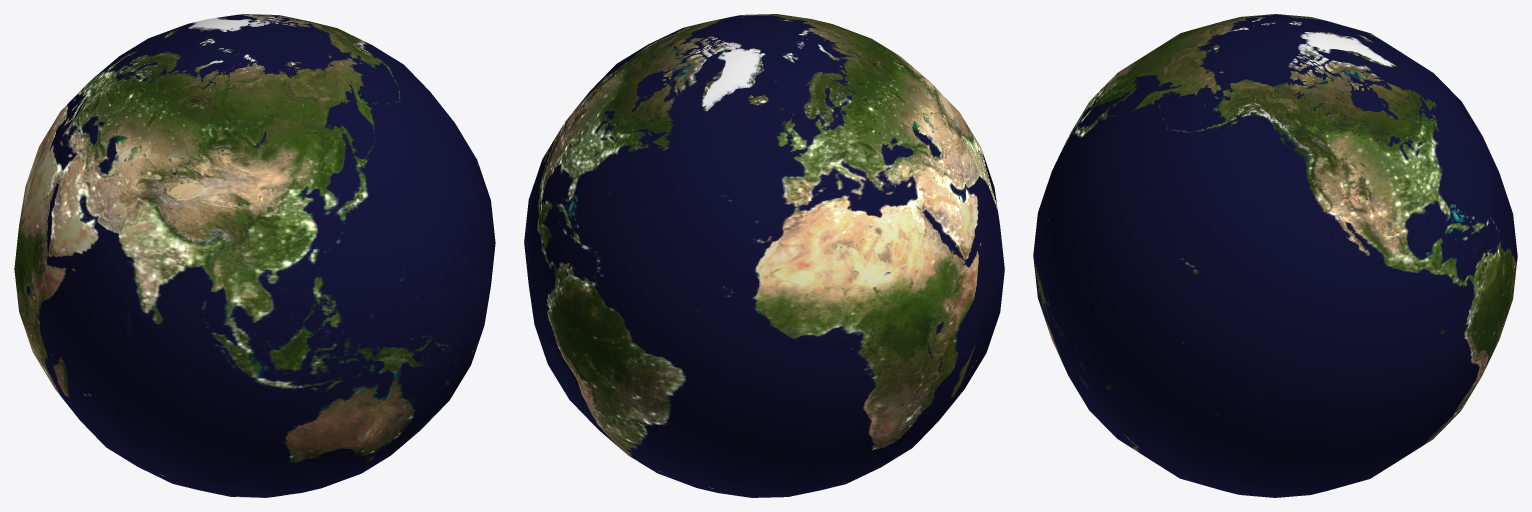
Rendered from earth_16.glb.
3 renders of one model, left to right at view 1: azimuth 30°, elevation 25°; view 2: azimuth 150°, elevation 25°; view 3: azimuth 270°, elevation 25°, orthographic.
Parts seen in each view (by area): view 1: Sphere; view 2: Sphere; view 3: Sphere.
Boxes of the visible parts, box(x1,y1,x2,y2) form: Sphere: box(14, 14, 495, 497); Sphere: box(524, 14, 1004, 497); Sphere: box(1033, 14, 1517, 497).
Size of the model in its own units: 2 by 2 by 2.
1 material, 1 textured.
